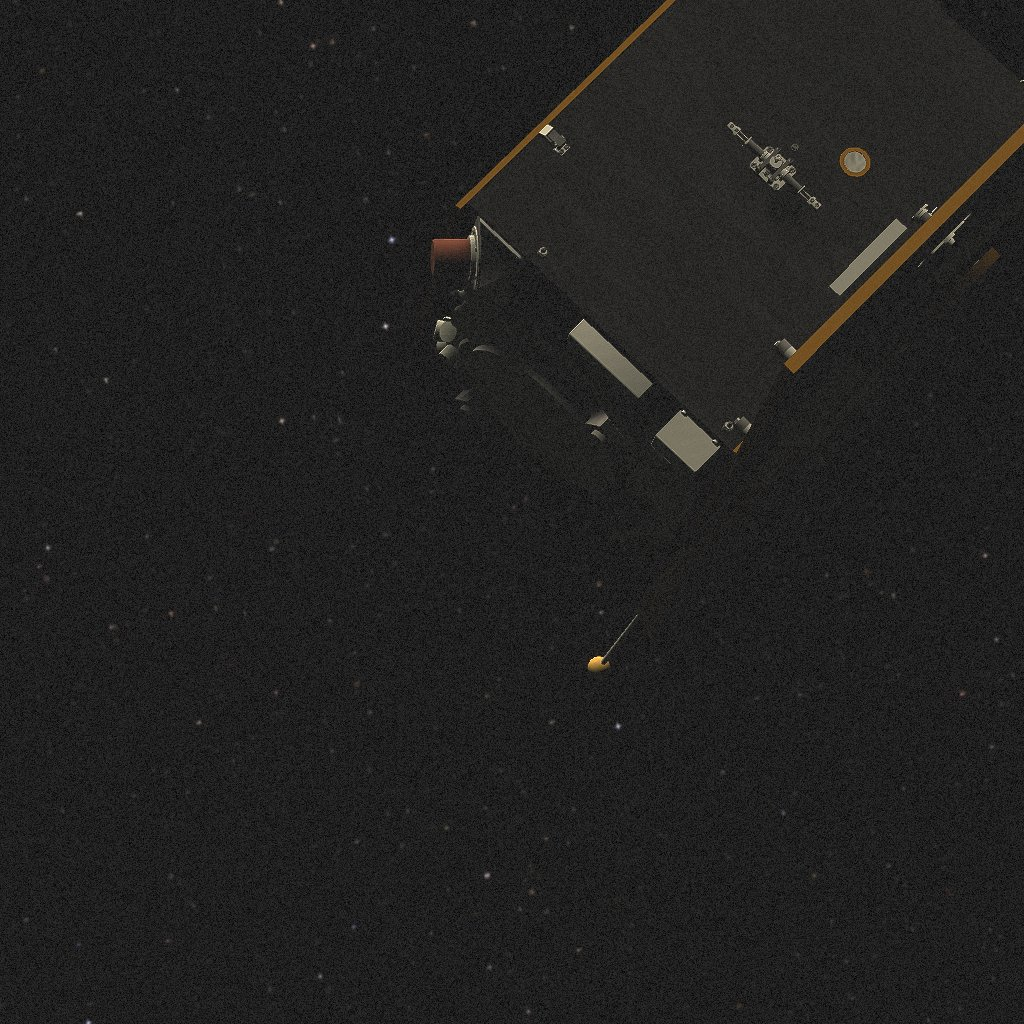proba_2: (412, 0, 1024, 679)
